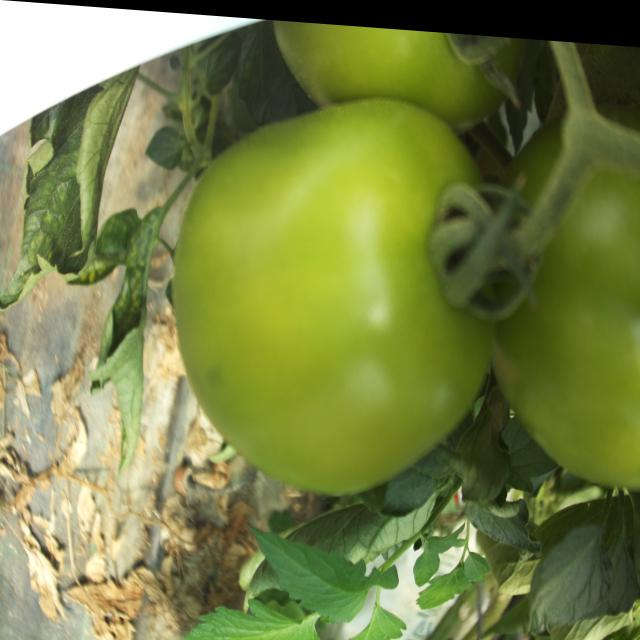yesil: (153, 64, 640, 507)
